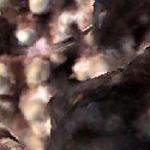alive: (2, 2, 147, 148)
